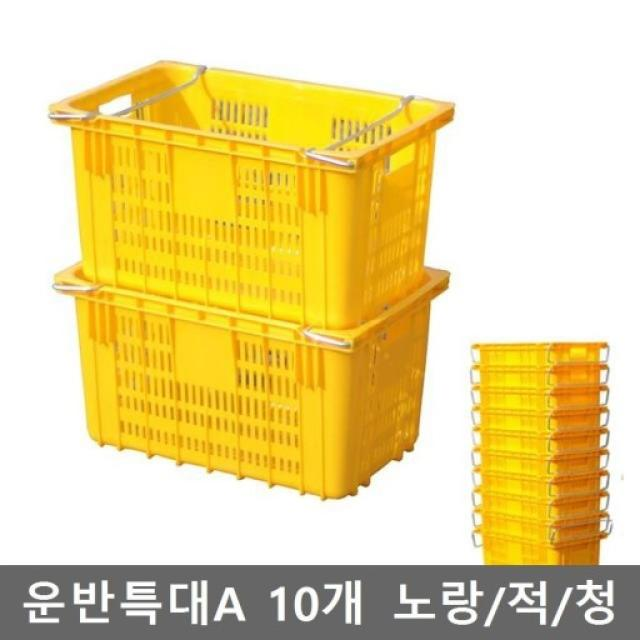basket: (24, 46, 455, 343), (53, 265, 448, 500), (472, 343, 612, 567), (473, 361, 611, 393), (474, 384, 611, 415), (474, 449, 610, 479), (476, 471, 611, 500), (474, 341, 611, 369), (475, 429, 610, 456), (475, 411, 610, 433)
